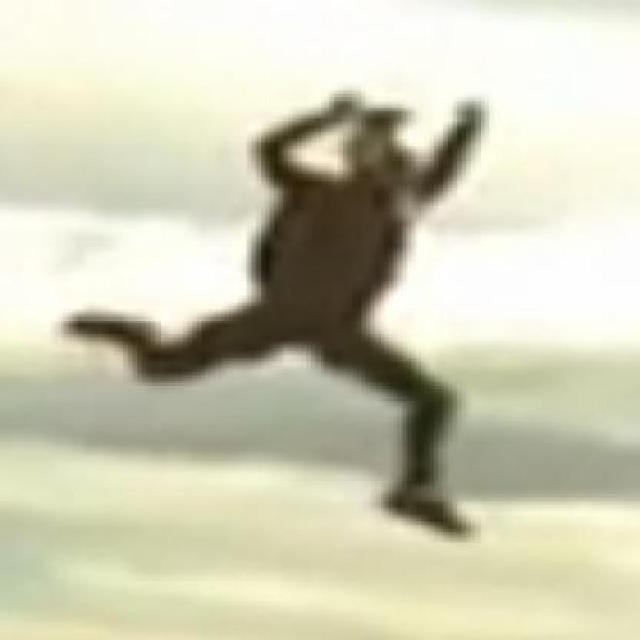fall: (63, 84, 495, 544)
